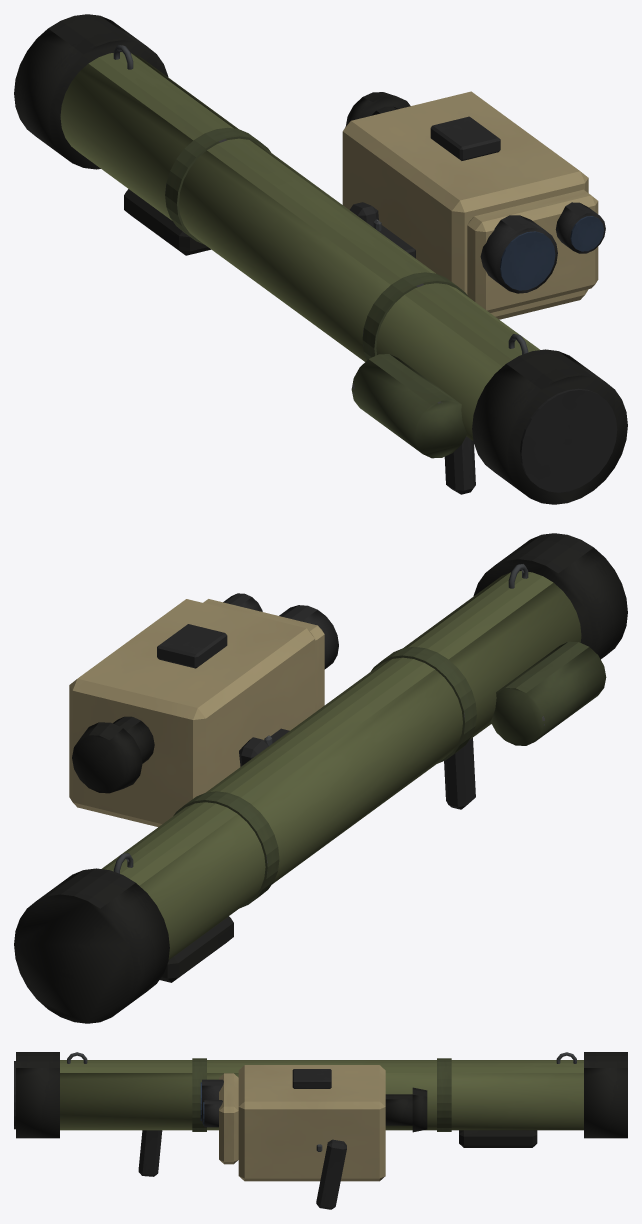
Rendered from javelin.glb.
The picture shows the model from 3 angles, top to bottom: view 1: azimuth 30°, elevation 25°; view 2: azimuth 150°, elevation 25°; view 3: azimuth 270°, elevation 25°; orthographic projection. The views are drawn at different scales.
Parts seen in each view (by area): view 1: JAVELIN_Body; view 2: JAVELIN_Body; view 3: JAVELIN_Body.
Boxes of the visible parts, x1,y1,x2,y2 form: JAVELIN_Body: (14, 14, 627, 504); JAVELIN_Body: (14, 533, 627, 1023); JAVELIN_Body: (14, 1052, 627, 1209).
Bounding box in the file's own units: 0.475 × 0.3208 × 1.25.
7 materials, 7 textured.
